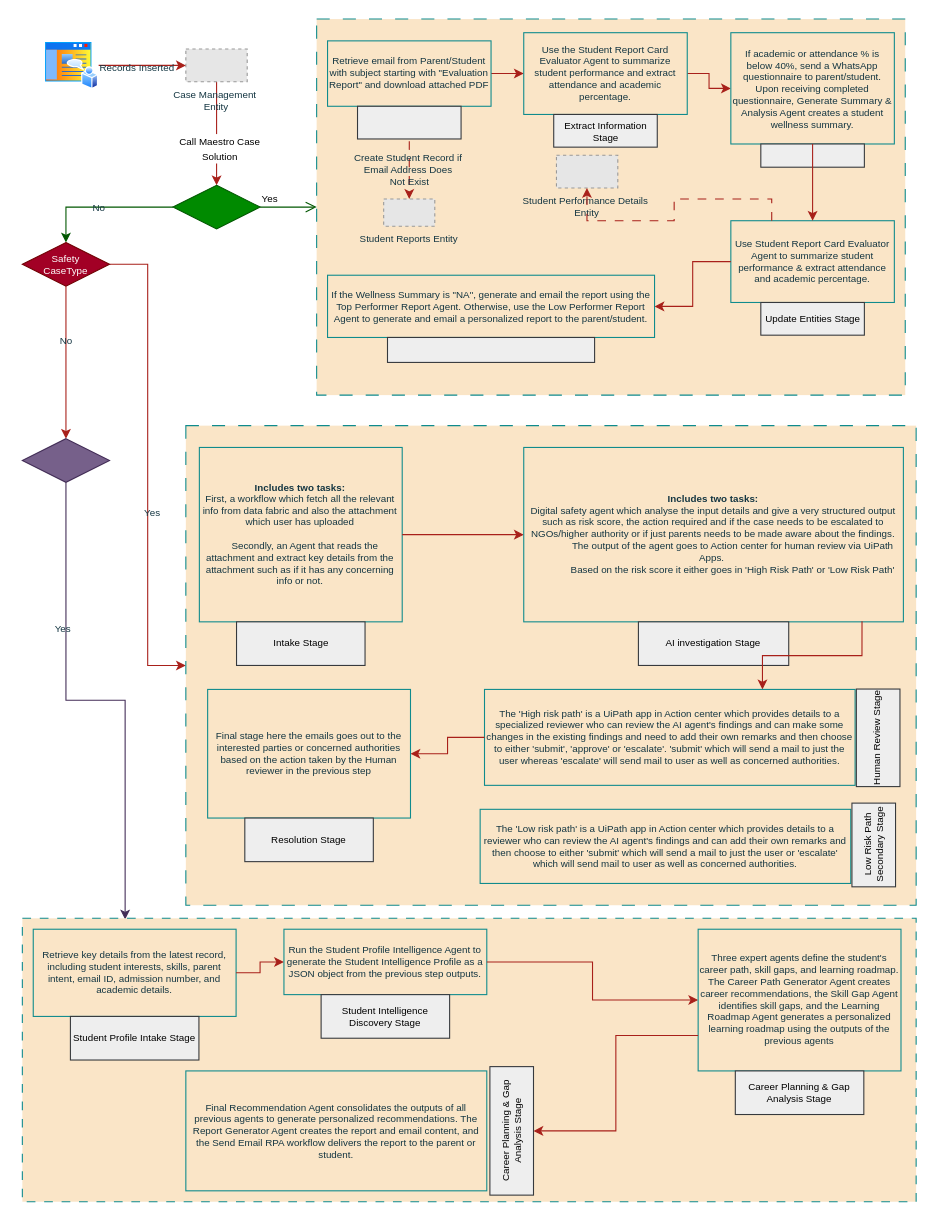
Some shapes in this 946 by 1221 pixel diagram are drawn without their labels. Grey dashed boxes stand in for pictures. Here are the shapes that lost their labels. From the top down, the centre of each, then its label:
At (71,64): "Parent, Child & Teacher Concerns Form".
At (408,122): "Wellness AI Fetch Stage".
At (812,155): "Notification Stage".
At (216,206): "Wellness CaseType".
At (490,349): "Generate and Send Report Stage".
At (65,460): "Career CaseType".
